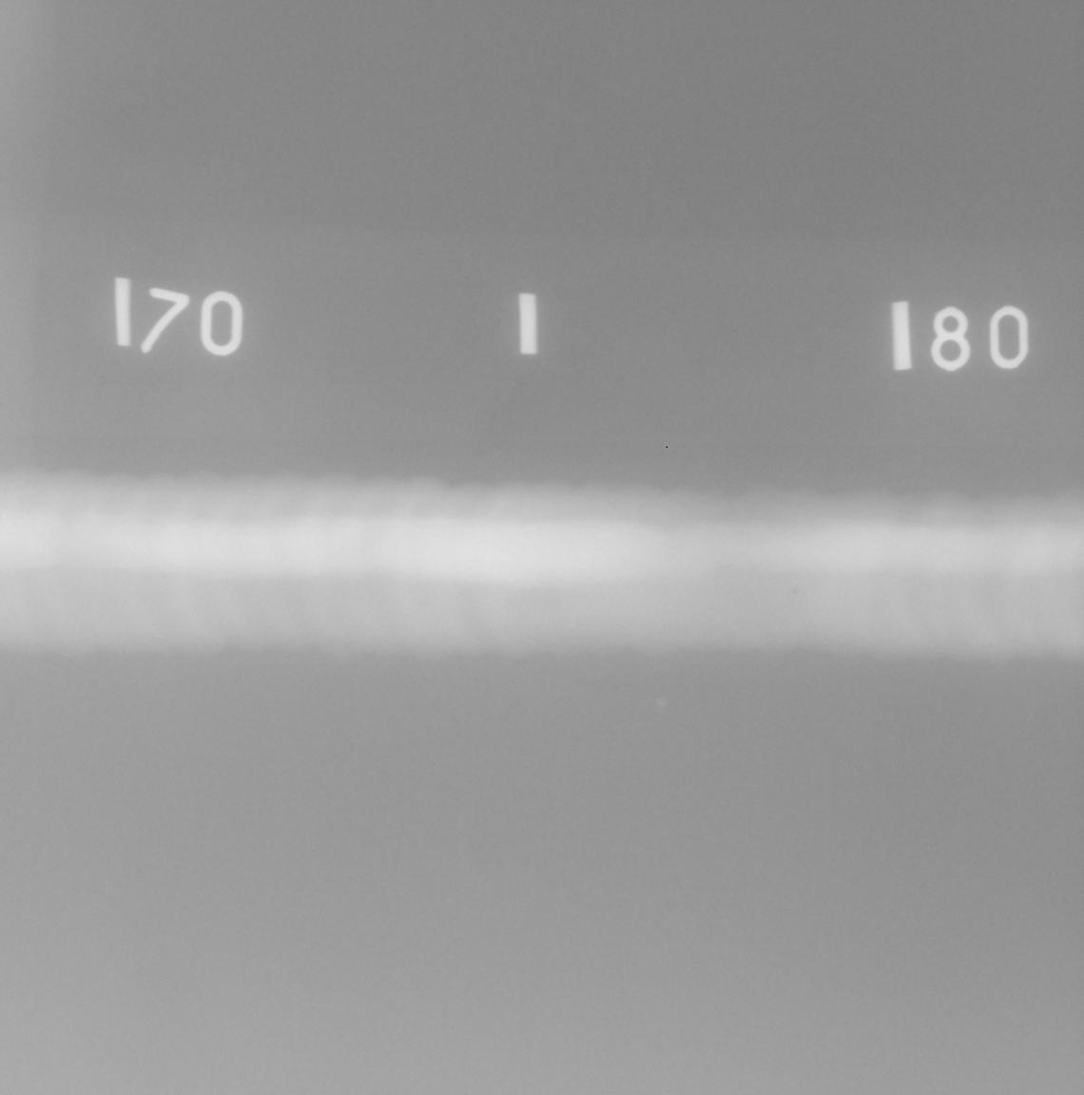Pore/Porosity: (791, 588, 798, 595)
